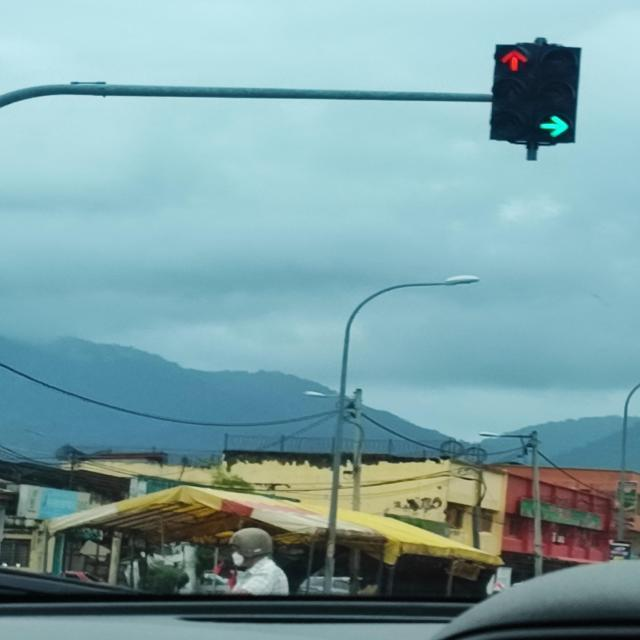green_light: (535, 46, 582, 142)
red_light: (488, 44, 539, 140)
